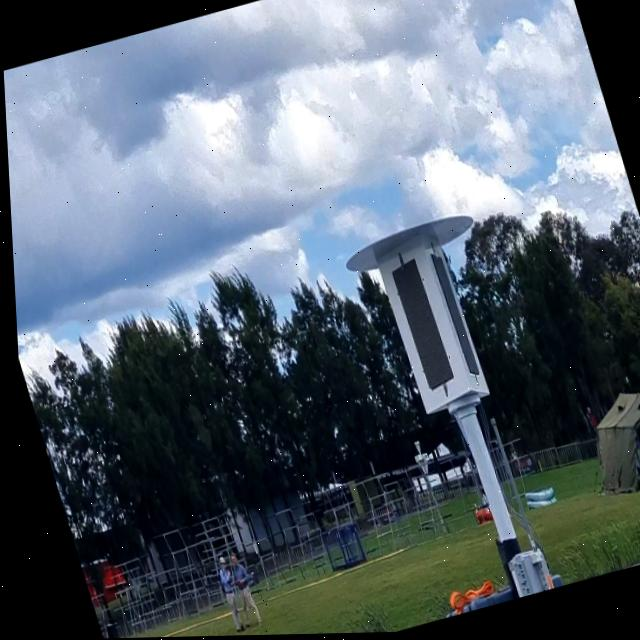led: (379, 248, 462, 401)
